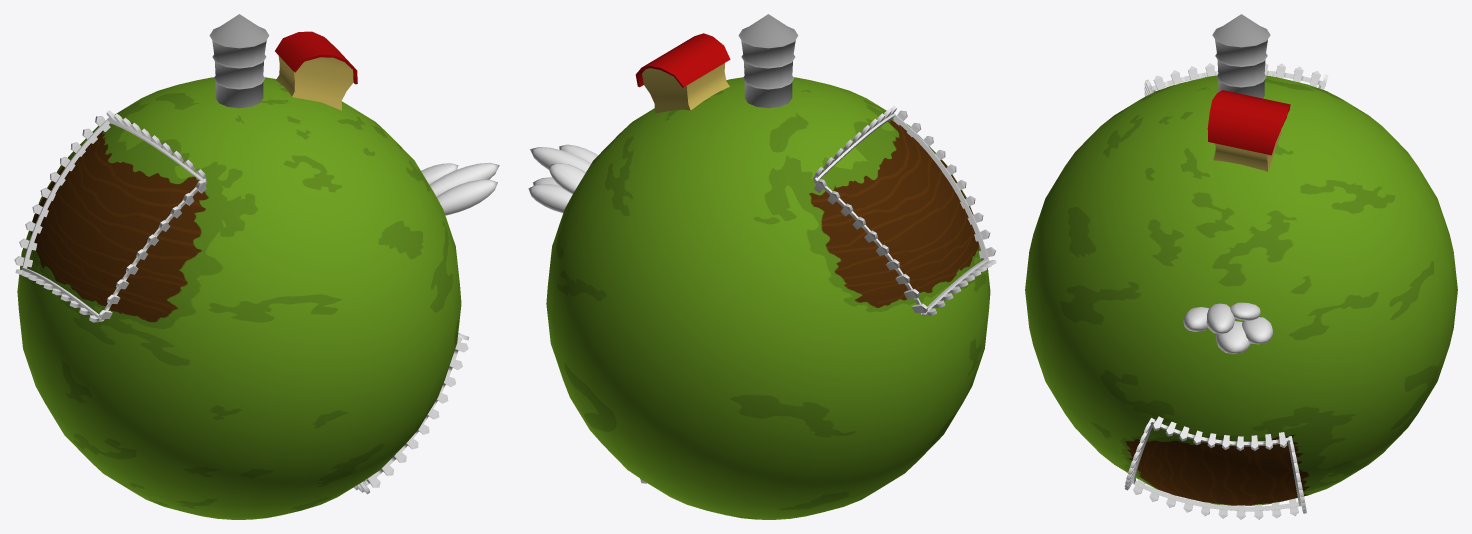
The model's file is Landscape.FBX.
3 views of the same model, side by side, from view 1: azimuth 30°, elevation 25°; view 2: azimuth 150°, elevation 25°; view 3: azimuth 270°, elevation 25° (orthographic). The views are drawn at different scales.
Parts seen in each view (by area): view 1: Landscape, Fence, Barn, Container, Fence_ncl1_1, Tree_ncl1_2, Tree_ncl1_3; view 2: Landscape, Fence, Barn, Container, Tree, Tree_ncl1_3, Tree_ncl1_1; view 3: Landscape, Barn, Fence_ncl1_1, Container, Fence, Tree_ncl1_4, Tree_ncl1_3, Tree, Tree_ncl1_2.
Part boxes in pixels (x1,y1,x2,y2): Landscape: (17,77,461,519); Fence: (14,110,206,322); Barn: (275,31,357,110); Container: (209,14,269,108); Fence_ncl1_1: (353,333,469,494); Tree_ncl1_2: (436,179,497,215); Tree_ncl1_3: (429,162,499,196); Landscape: (546,77,990,519); Fence: (813,105,996,315); Barn: (635,33,730,113); Container: (738,14,798,108); Tree: (528,184,572,213); Tree_ncl1_3: (530,147,591,172); Tree_ncl1_1: (549,163,585,193); Landscape: (1025,75,1457,505); Barn: (1207,90,1290,171); Fence_ncl1_1: (1124,416,1306,519); Container: (1212,14,1270,98); Fence: (1144,63,1328,96); Tree_ncl1_4: (1215,321,1250,354); Tree_ncl1_3: (1206,303,1234,333); Tree: (1242,317,1272,344); Tree_ncl1_2: (1183,307,1208,331).
Bounding box in the file's own units: 697 × 722 × 600.
4 materials, 1 textured.
